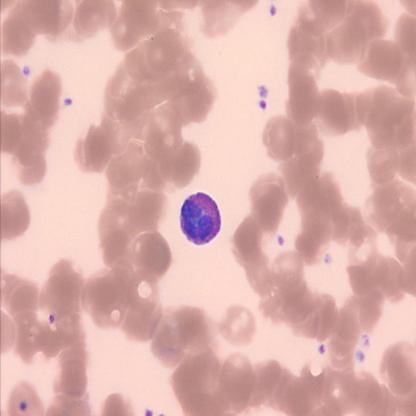Eosinophil: (179, 192, 222, 249)
